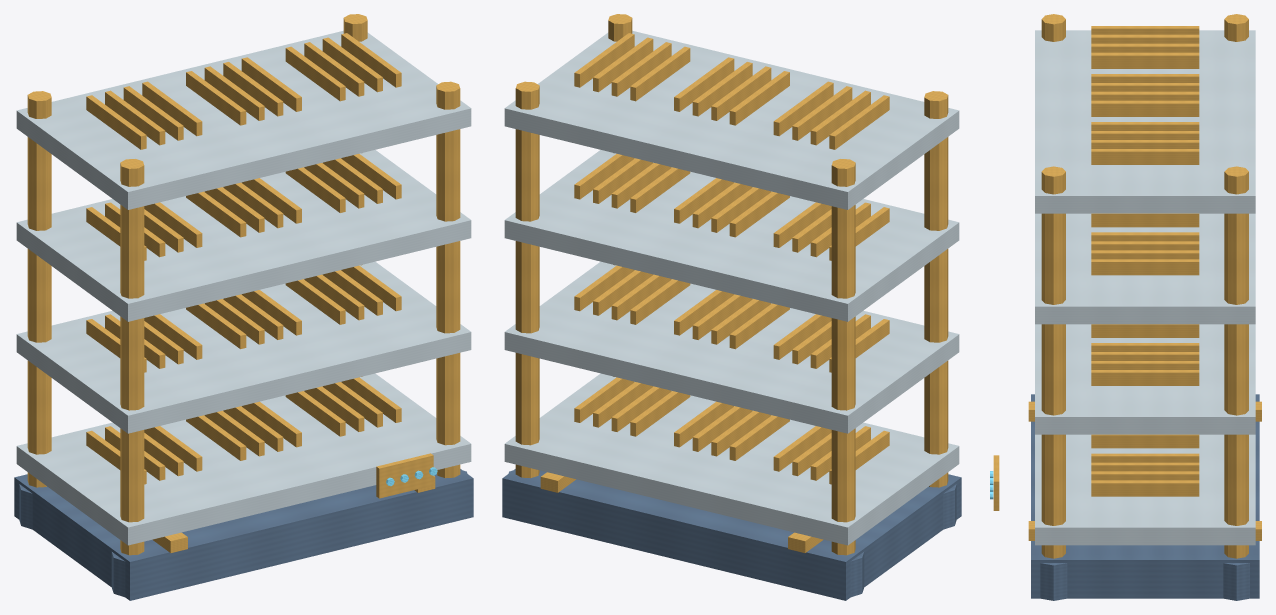
Rendered from atlas100-s057-a01.glb.
3 renders of one model, left to right at view 1: azimuth 30°, elevation 25°; view 2: azimuth 150°, elevation 25°; view 3: azimuth 270°, elevation 25°, orthographic.
Parts seen in each view (by area): view 1: atlas100-s057-a01:part-050, atlas100-s057-a01:part-024, atlas100-s057-a01:part-037, atlas100-s057-a01:part-011, atlas100-s057-a01:part-000, atlas100-s057-a01:part-005, atlas100-s057-a01:part-009, atlas100-s057-a01:part-003, atlas100-s057-a01:part-063, atlas100-s057-a01:part-059, atlas100-s057-a01:part-051, atlas100-s057-a01:part-055 (+45 smaller); view 2: atlas100-s057-a01:part-050, atlas100-s057-a01:part-024, atlas100-s057-a01:part-037, atlas100-s057-a01:part-011, atlas100-s057-a01:part-000, atlas100-s057-a01:part-003, atlas100-s057-a01:part-007, atlas100-s057-a01:part-005, atlas100-s057-a01:part-059, atlas100-s057-a01:part-051, atlas100-s057-a01:part-055, atlas100-s057-a01:part-052 (+44 smaller); view 3: atlas100-s057-a01:part-050, atlas100-s057-a01:part-037, atlas100-s057-a01:part-011, atlas100-s057-a01:part-024, atlas100-s057-a01:part-000, atlas100-s057-a01:part-007, atlas100-s057-a01:part-009, atlas100-s057-a01:part-023, atlas100-s057-a01:part-049, atlas100-s057-a01:part-054, atlas100-s057-a01:part-058, atlas100-s057-a01:part-036 (+27 smaller).
Boxes of the visible parts, x1,y1,x2,y2 form: atlas100-s057-a01:part-050: (16, 30, 471, 209); atlas100-s057-a01:part-024: (16, 261, 471, 433); atlas100-s057-a01:part-037: (16, 150, 471, 321); atlas100-s057-a01:part-011: (16, 373, 471, 545); atlas100-s057-a01:part-000: (14, 469, 473, 600); atlas100-s057-a01:part-005: (120, 159, 144, 555); atlas100-s057-a01:part-009: (436, 81, 460, 478); atlas100-s057-a01:part-003: (27, 91, 51, 487); atlas100-s057-a01:part-063: (376, 453, 433, 498); atlas100-s057-a01:part-059: (285, 46, 345, 101); atlas100-s057-a01:part-051: (86, 95, 146, 149); atlas100-s057-a01:part-055: (186, 71, 246, 125); atlas100-s057-a01:part-050: (504, 30, 959, 209); atlas100-s057-a01:part-024: (504, 261, 959, 433); atlas100-s057-a01:part-037: (504, 150, 959, 321); atlas100-s057-a01:part-011: (504, 373, 959, 545); atlas100-s057-a01:part-000: (502, 469, 961, 600); atlas100-s057-a01:part-003: (831, 159, 855, 555); atlas100-s057-a01:part-007: (515, 81, 539, 478); atlas100-s057-a01:part-005: (924, 91, 948, 487); atlas100-s057-a01:part-059: (630, 46, 690, 101); atlas100-s057-a01:part-051: (829, 95, 889, 149); atlas100-s057-a01:part-055: (729, 71, 789, 125); atlas100-s057-a01:part-052: (810, 90, 870, 145); atlas100-s057-a01:part-050: (1035, 30, 1255, 213); atlas100-s057-a01:part-037: (1035, 213, 1255, 324); atlas100-s057-a01:part-011: (1035, 434, 1255, 545); atlas100-s057-a01:part-024: (1035, 324, 1255, 434); atlas100-s057-a01:part-000: (1031, 394, 1259, 598); atlas100-s057-a01:part-007: (1224, 166, 1248, 558); atlas100-s057-a01:part-009: (1041, 166, 1065, 558); atlas100-s057-a01:part-023: (1091, 480, 1199, 496); atlas100-s057-a01:part-049: (1091, 259, 1199, 275); atlas100-s057-a01:part-054: (1091, 52, 1199, 68); atlas100-s057-a01:part-058: (1091, 100, 1199, 116); atlas100-s057-a01:part-036: (1091, 370, 1199, 385).
Bounding box in the file's own units: 2.47 × 2.88 × 1.66.
4 materials, 4 textured.
